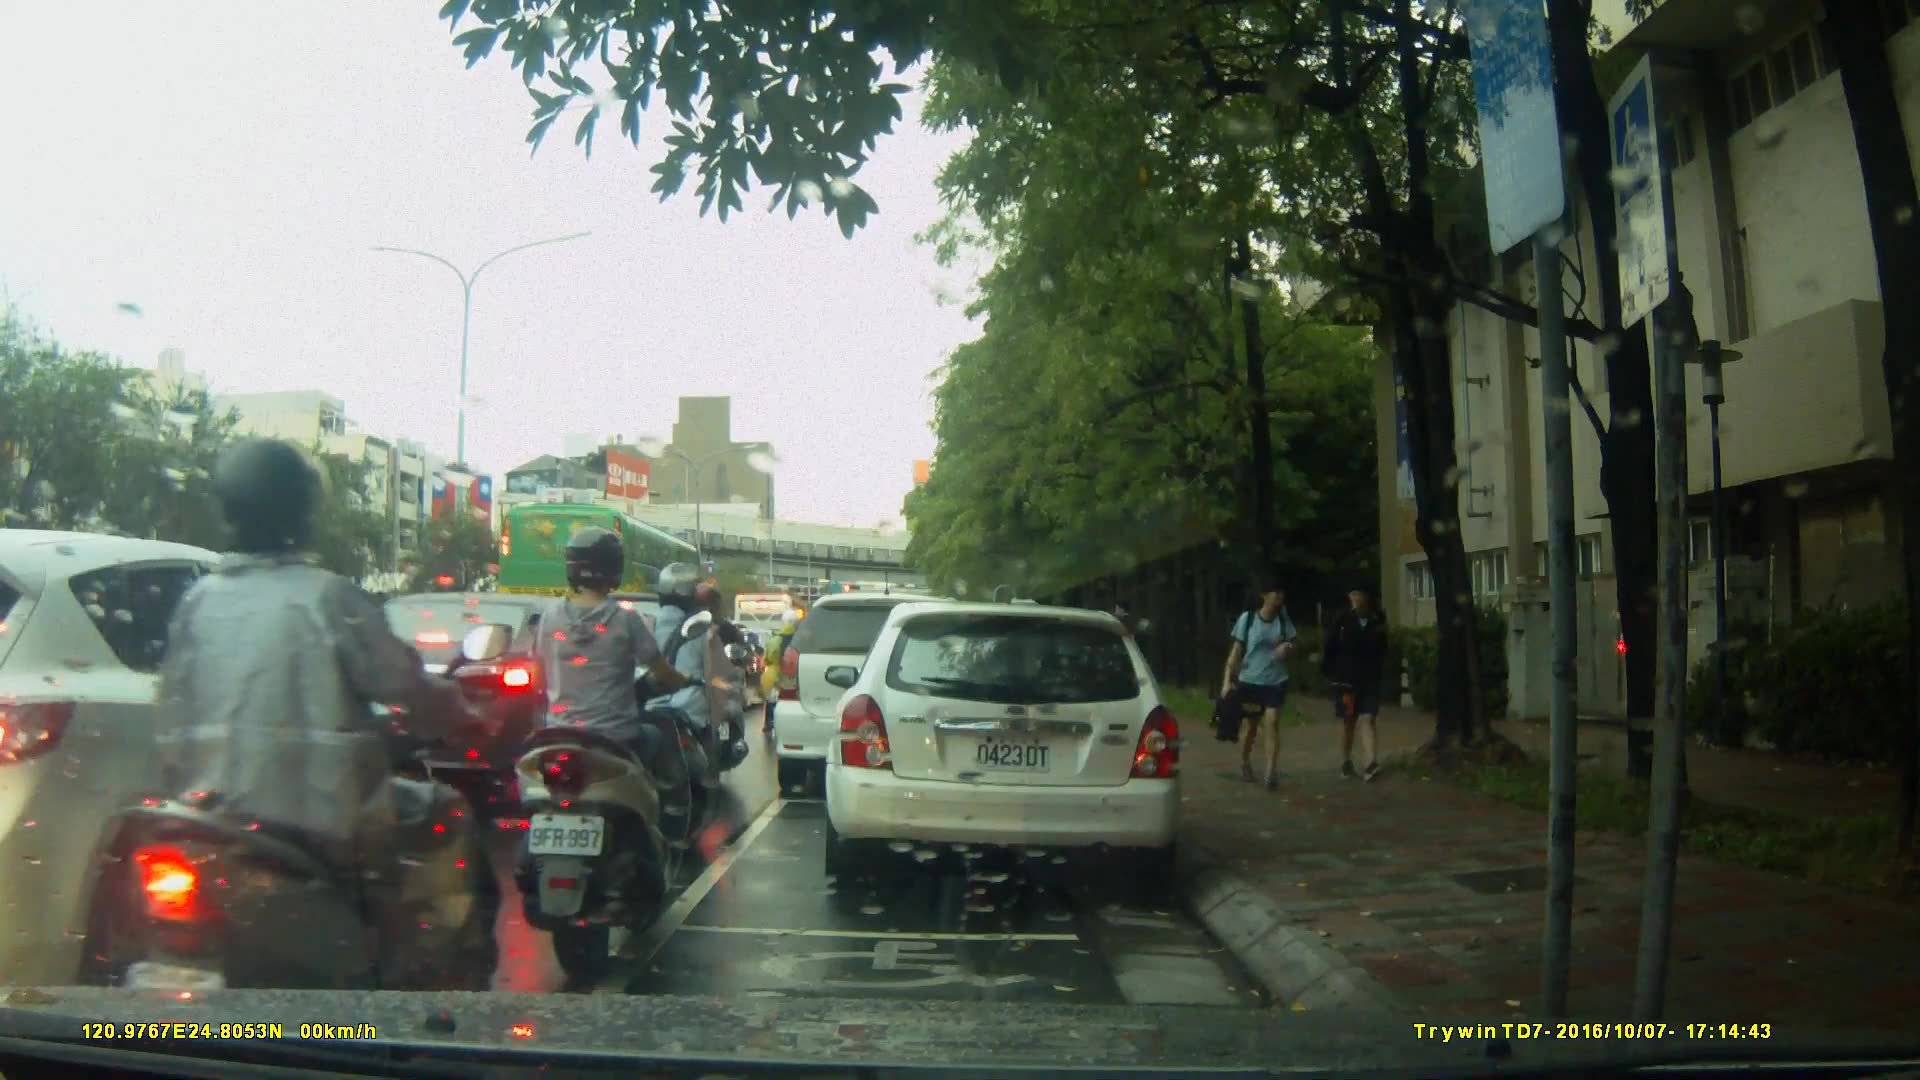pedestrian: (1206, 570, 1317, 794), (1317, 569, 1398, 786), (1118, 596, 1143, 685)
rider: (112, 437, 502, 1080), (512, 523, 693, 969), (634, 560, 722, 825), (679, 583, 756, 777), (767, 617, 809, 742)
vehicle: (1, 528, 448, 988), (831, 592, 1196, 897), (314, 590, 630, 802), (770, 591, 999, 803), (495, 500, 707, 636)
